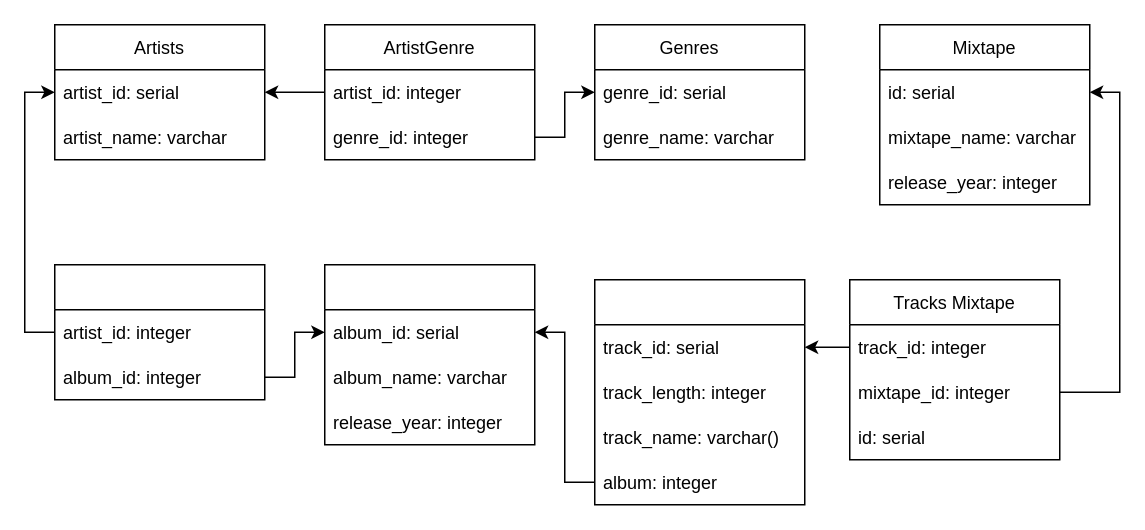
The diagram is 1145 pixels wide and 530 high, and some of its shapes have lost their labels. Here are the shapes that lost their labels. From the top down, the box of each, then its label:
(53, 263, 265, 400): ArtistAlbum
(323, 263, 535, 445): Albums
(593, 278, 805, 505): Tracks
